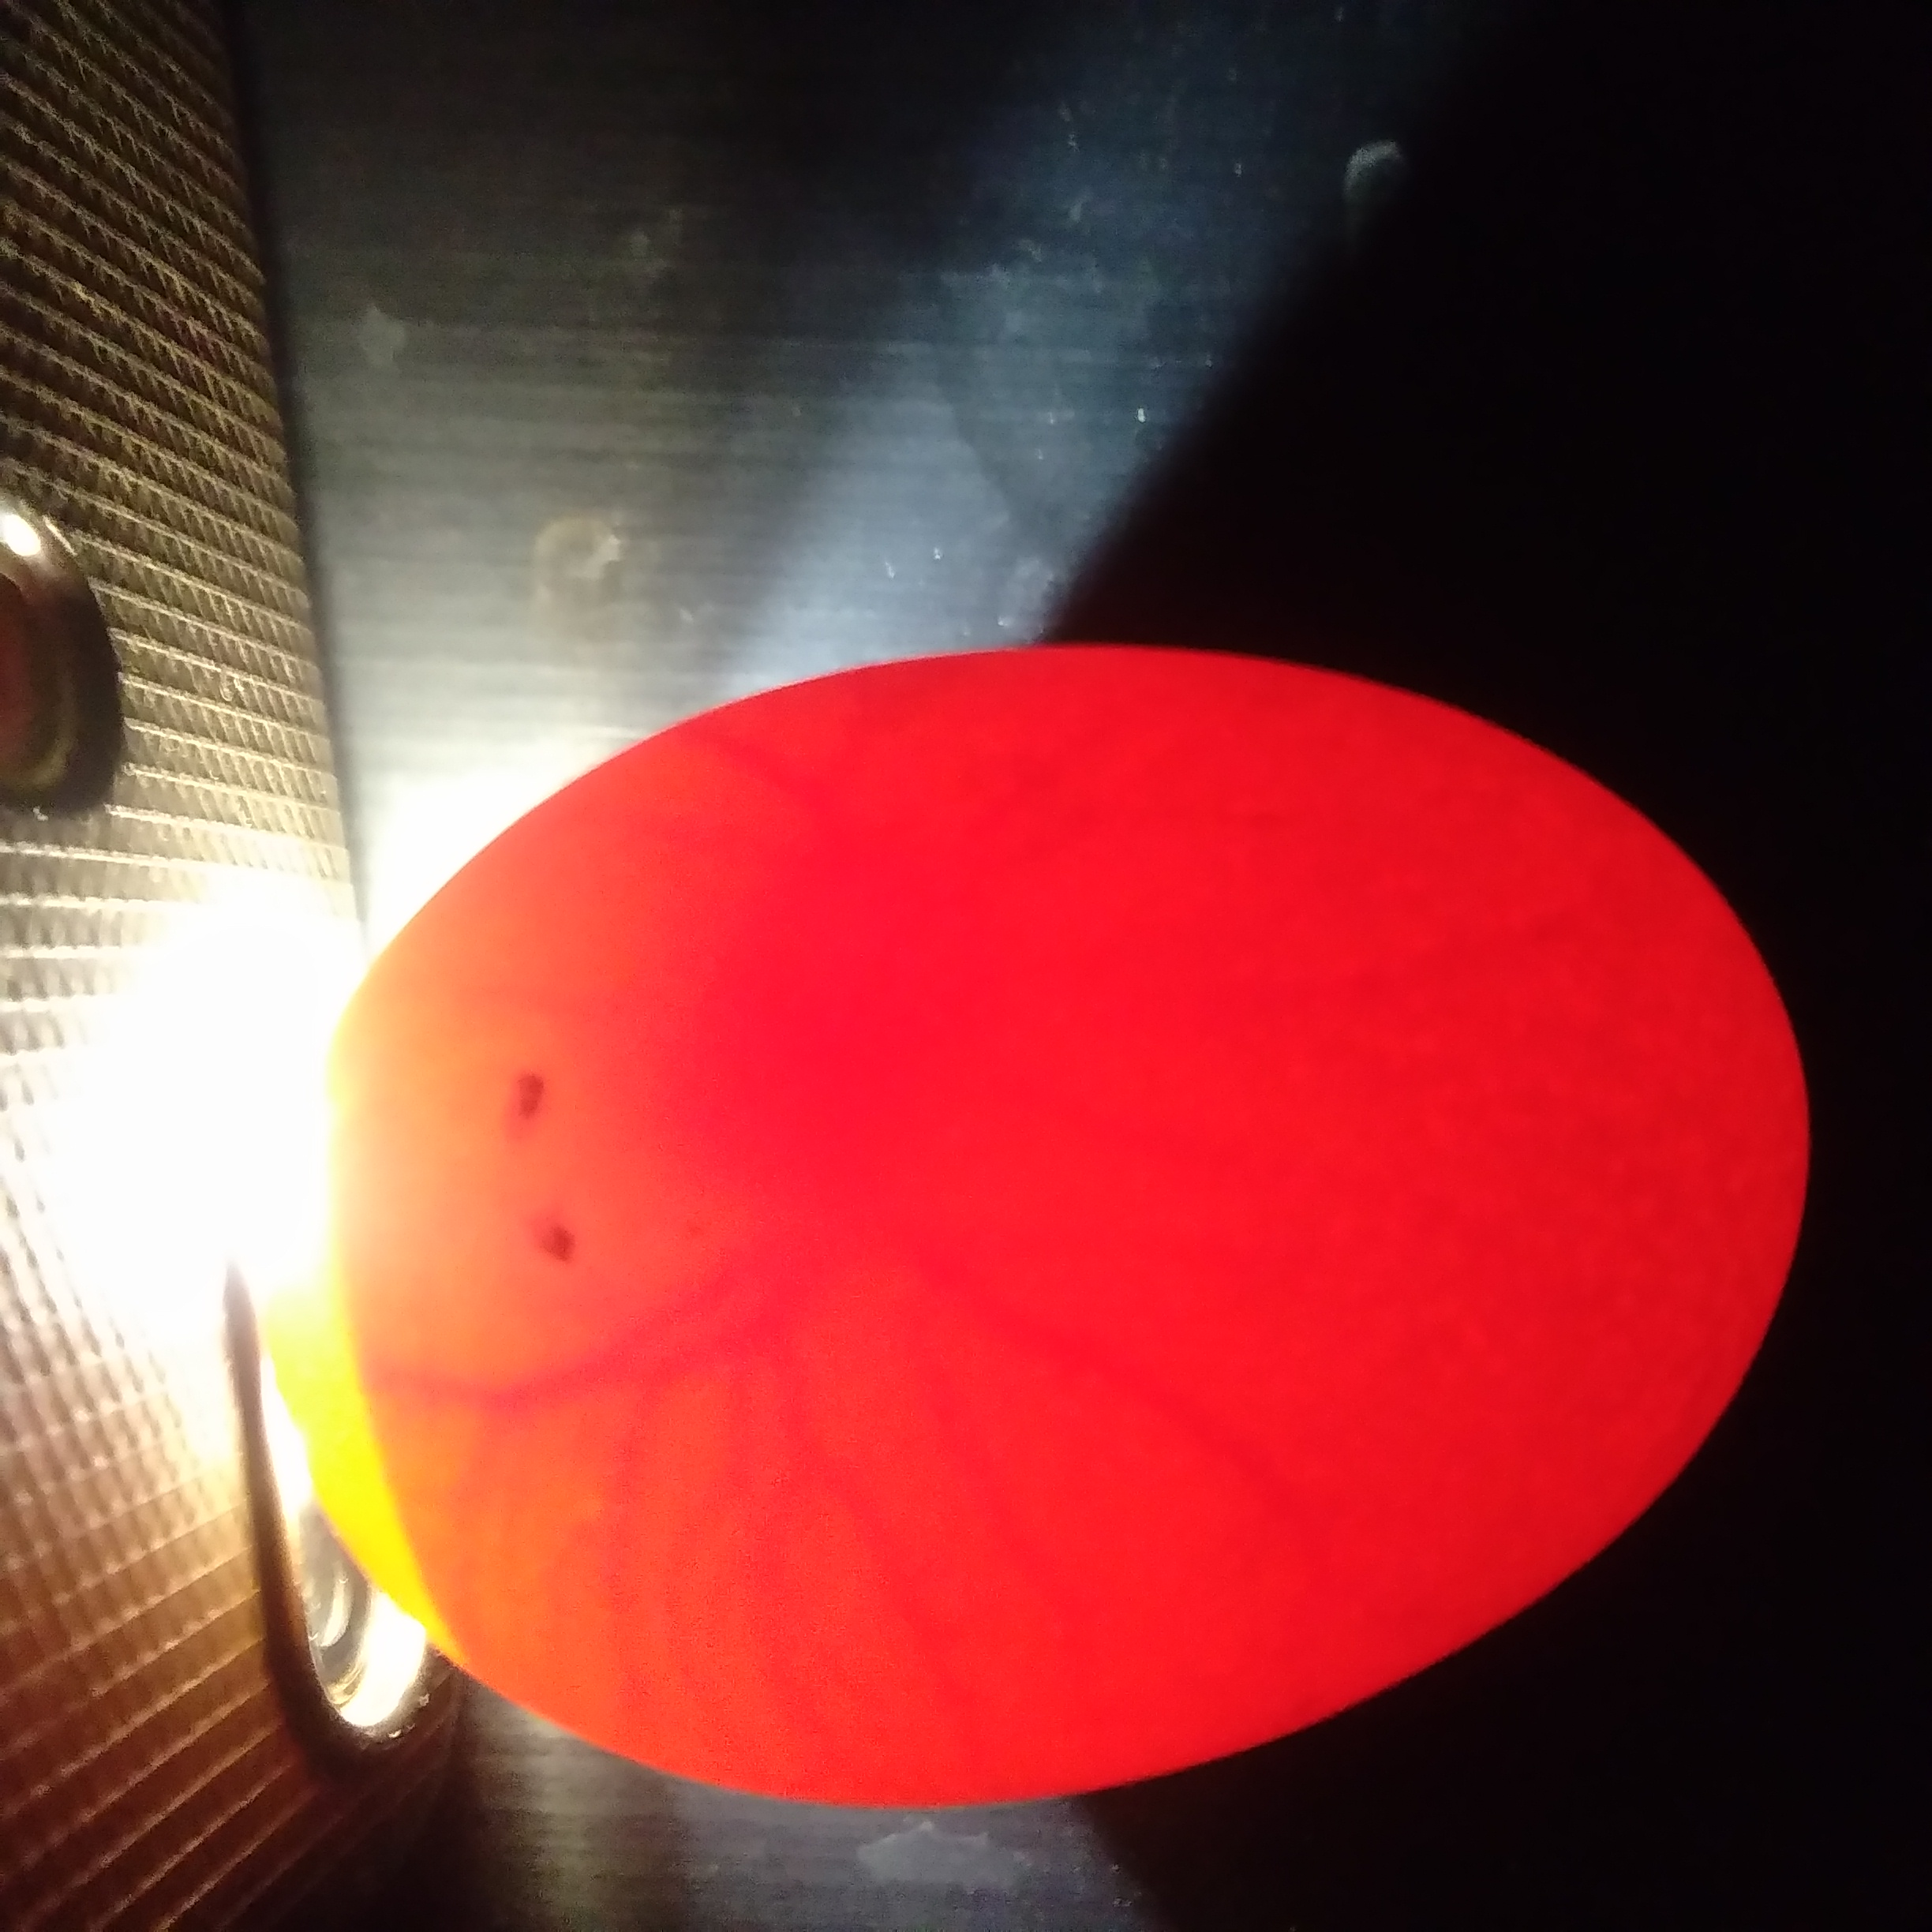bloodcell: (451, 1348, 1272, 1714)
